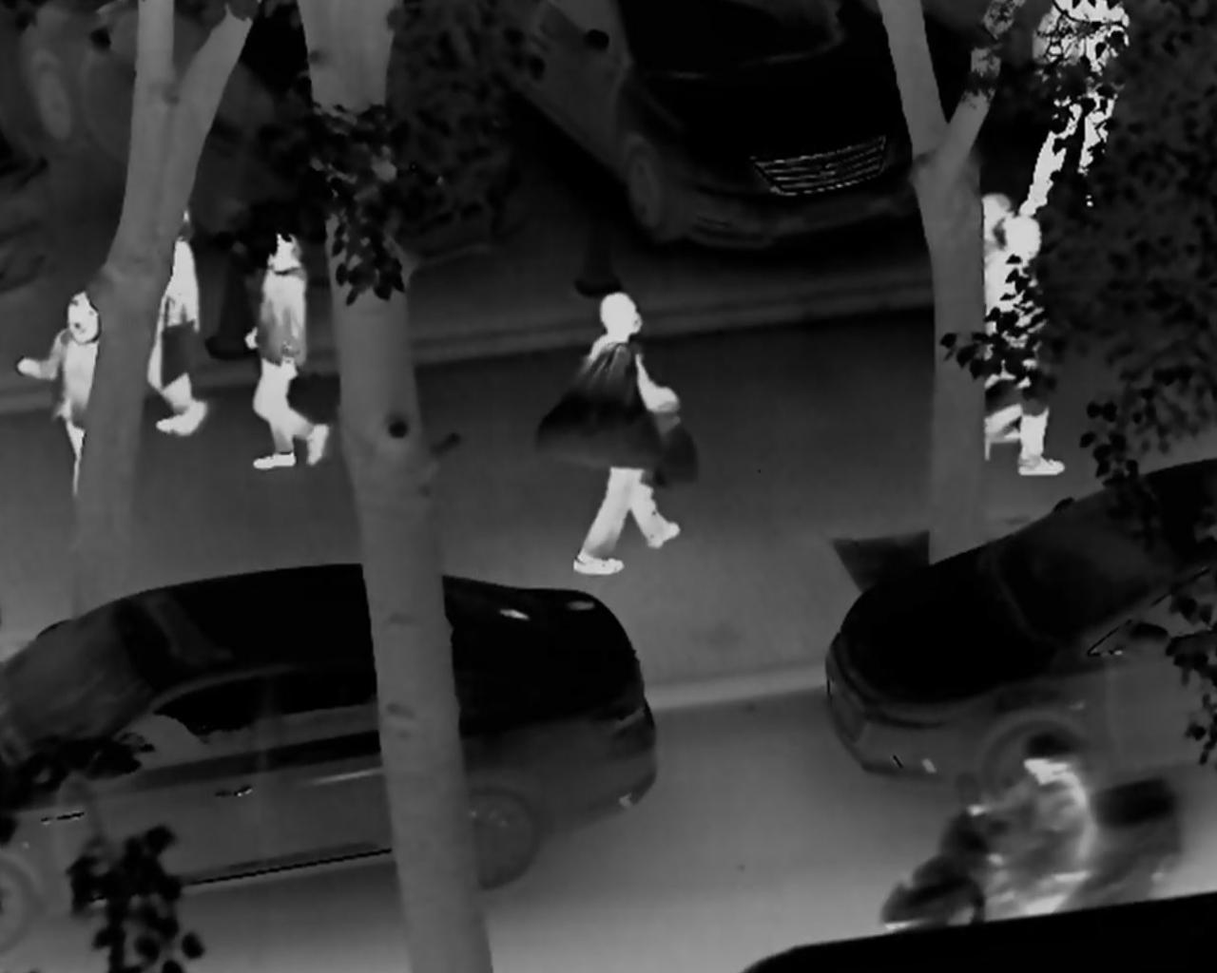person: (559, 284, 688, 582), (971, 216, 1068, 479), (960, 729, 1094, 918), (230, 223, 331, 472), (14, 285, 115, 515), (126, 192, 208, 439), (956, 193, 1023, 446)
